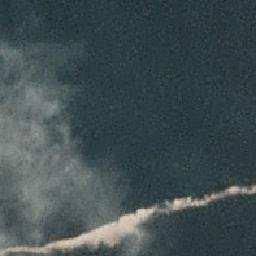cloud: (1, 35, 117, 216)
debris: (83, 207, 145, 249), (167, 185, 256, 213)
